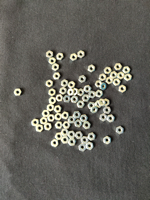nut: (104, 136, 112, 145), (86, 142, 94, 151), (31, 119, 40, 127), (125, 74, 133, 82), (119, 85, 127, 93), (104, 67, 112, 75), (106, 77, 114, 85), (99, 74, 107, 82), (100, 114, 108, 122), (95, 100, 103, 108), (91, 106, 99, 114), (88, 102, 96, 110), (96, 90, 104, 98), (88, 65, 96, 73), (70, 54, 78, 62), (88, 133, 96, 141), (81, 137, 89, 145), (79, 144, 87, 152), (75, 132, 83, 140), (83, 122, 91, 130), (80, 115, 88, 123), (75, 120, 83, 128), (68, 131, 76, 139), (68, 81, 76, 89), (46, 80, 54, 88), (49, 97, 57, 105), (62, 112, 70, 120), (55, 133, 63, 141), (51, 140, 59, 148), (54, 105, 62, 113), (47, 104, 55, 112), (44, 123, 52, 131), (42, 110, 50, 118), (40, 117, 48, 125), (36, 125, 44, 133), (123, 67, 131, 74), (118, 72, 125, 80), (117, 127, 124, 135), (108, 115, 115, 123), (104, 107, 112, 114), (103, 99, 110, 107), (99, 99, 107, 106), (100, 83, 107, 91), (95, 81, 103, 88), (89, 91, 96, 99), (79, 76, 87, 83), (78, 51, 85, 59), (57, 53, 64, 61), (84, 86, 92, 93), (82, 95, 90, 102), (77, 101, 85, 108), (69, 139, 77, 146), (73, 112, 81, 119), (78, 89, 85, 97), (68, 89, 75, 97), (68, 117, 76, 124), (63, 122, 71, 129), (63, 96, 71, 103), (60, 87, 67, 95), (61, 80, 69, 87), (53, 73, 61, 80), (56, 95, 64, 102), (49, 89, 56, 97), (61, 129, 69, 136), (62, 136, 69, 144), (55, 122, 63, 129), (55, 113, 62, 121), (14, 89, 22, 96), (115, 64, 122, 71), (114, 79, 121, 86), (111, 72, 118, 79), (72, 96, 79, 103), (47, 51, 54, 58), (49, 58, 56, 65), (52, 64, 59, 71), (48, 115, 55, 122), (73, 88, 79, 96)
